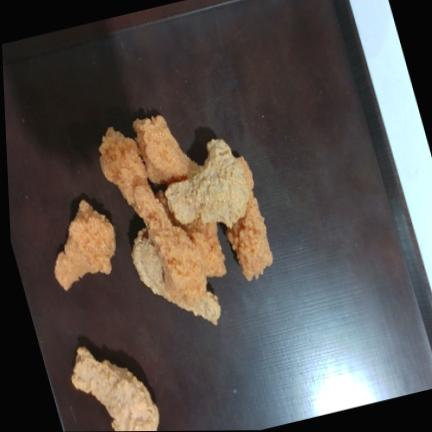chicken: (132, 228, 221, 325), (166, 139, 252, 227), (72, 347, 159, 431), (142, 190, 207, 302), (133, 115, 199, 184), (227, 191, 273, 280), (99, 127, 148, 206)
